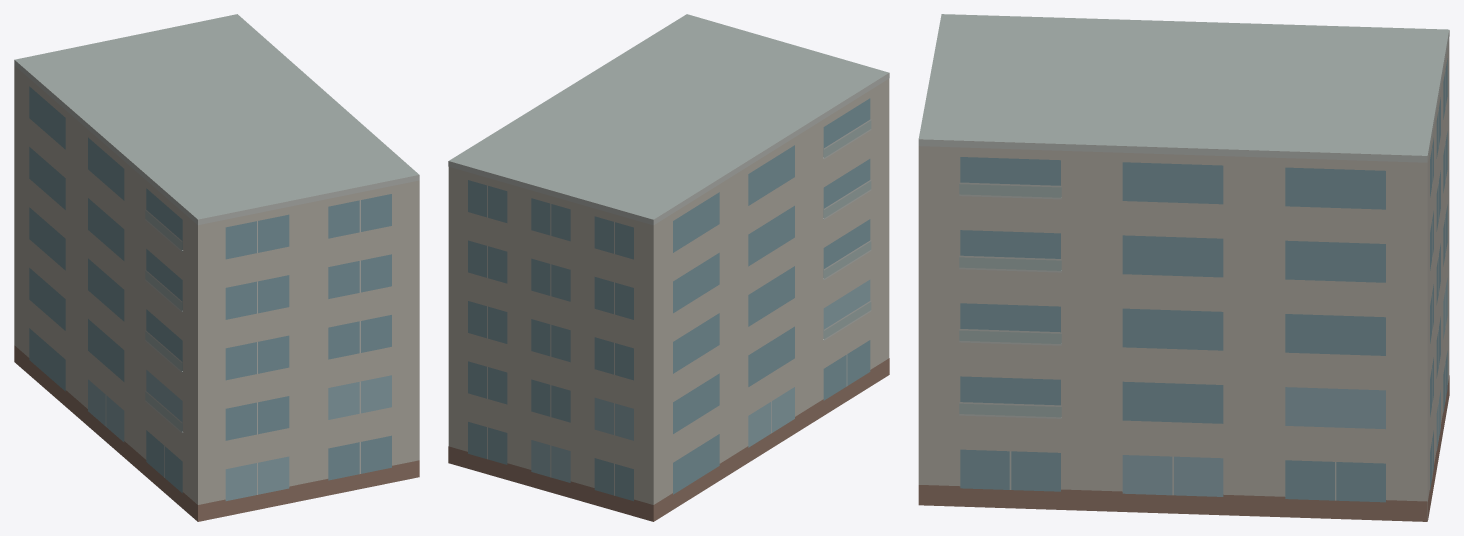
File: survey-upis-32873139.glb
3 renders of one model, left to right at view 1: azimuth 30°, elevation 25°; view 2: azimuth 150°, elevation 25°; view 3: azimuth 270°, elevation 25°, orthographic. The views are drawn at different scales.
Visible parts, largest first — view 1: survey-upis-32873139.tmp; view 2: survey-upis-32873139.tmp; view 3: survey-upis-32873139.tmp.
Boxes of the visible parts, box(x1,y1,x2,y2) form: survey-upis-32873139.tmp: box(14, 14, 419, 521); survey-upis-32873139.tmp: box(448, 14, 889, 521); survey-upis-32873139.tmp: box(918, 14, 1449, 521).
Bounding box in the file's own units: 10.91 × 13.1 × 17.23.
